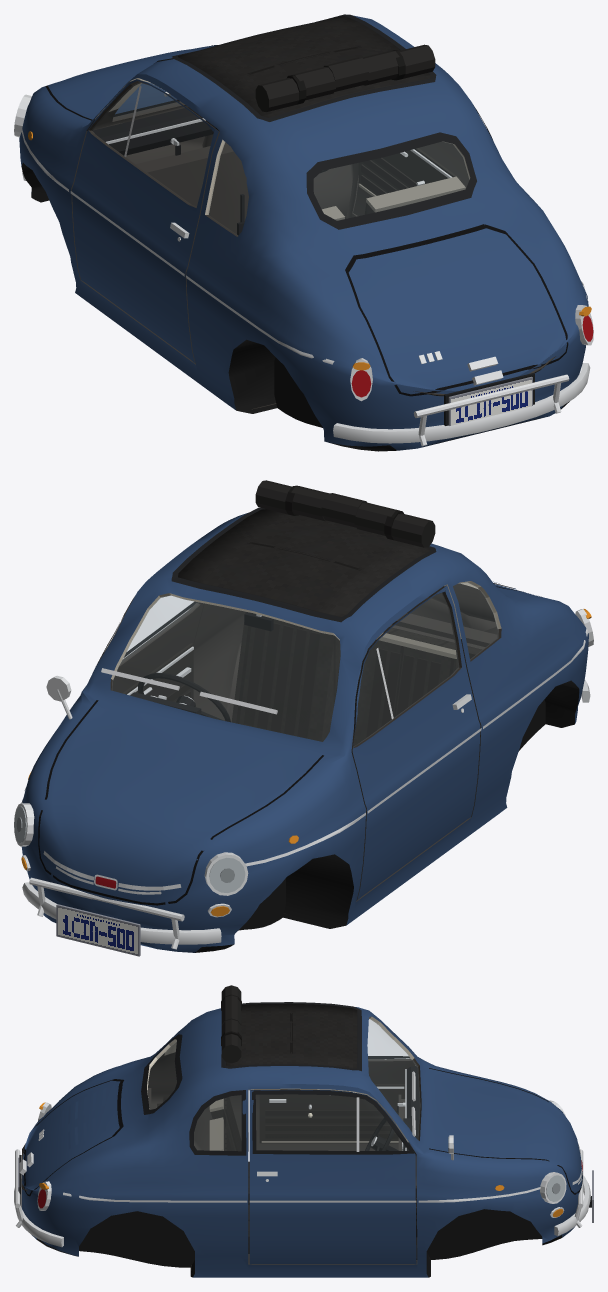
The model's file is classic_l.glb.
3 renders of one model, top to bottom at view 1: azimuth 30°, elevation 25°; view 2: azimuth 150°, elevation 25°; view 3: azimuth 270°, elevation 25°, orthographic. The views are drawn at different scales.
Visible parts, largest first — view 1: Body, Door_L, Glass, Interior, Roof_Closed, Door_L_Glass, Roof_Open, Door_R, Lights_Tail; view 2: Body, Glass, Interior, Door_L, Roof_Closed, Door_L_Glass, Roof_Open, Door_R, Lights_Head, SteeringWheel; view 3: Body, Door_R, Door_L, Roof_Closed, Door_R_Glass, Glass, Interior, Roof_Open, SteeringWheel.
Part boxes in pixels (left/top/right/bottom): Body: left=14, top=14, right=593, bottom=451; Door_L: left=70, top=79, right=219, bottom=363; Glass: left=149, top=83, right=469, bottom=234; Interior: left=93, top=107, right=465, bottom=235; Roof_Closed: left=178, top=16, right=430, bottom=117; Door_L_Glass: left=92, top=83, right=212, bottom=206; Roof_Open: left=255, top=44, right=435, bottom=111; Door_R: left=353, top=141, right=469, bottom=215; Lights_Tail: left=351, top=315, right=593, bottom=397; Body: left=14, top=508, right=593, bottom=956; Glass: left=112, top=582, right=498, bottom=741; Interior: left=130, top=611, right=497, bottom=746; Door_L: left=351, top=585, right=481, bottom=900; Roof_Closed: left=178, top=509, right=430, bottom=617; Door_L_Glass: left=354, top=593, right=458, bottom=745; Roof_Open: left=255, top=480, right=435, bottom=547; Door_R: left=89, top=596, right=203, bottom=702; Lights_Head: left=14, top=806, right=245, bottom=892; SteeringWheel: left=138, top=672, right=230, bottom=722; Body: left=14, top=1002, right=593, bottom=1277; Door_R: left=249, top=1089, right=416, bottom=1264; Door_L: left=251, top=1056, right=415, bottom=1150; Roof_Closed: left=226, top=1003, right=357, bottom=1068; Door_R_Glass: left=256, top=1095, right=408, bottom=1150; Glass: left=147, top=1019, right=420, bottom=1150; Interior: left=147, top=1066, right=419, bottom=1262; Roof_Open: left=221, top=985, right=241, bottom=1063; SteeringWheel: left=365, top=1110, right=398, bottom=1150.
Bounding box in the file's own units: 1.33 × 1.29 × 3.07.
Materials: 29 (7 with a texture image).
